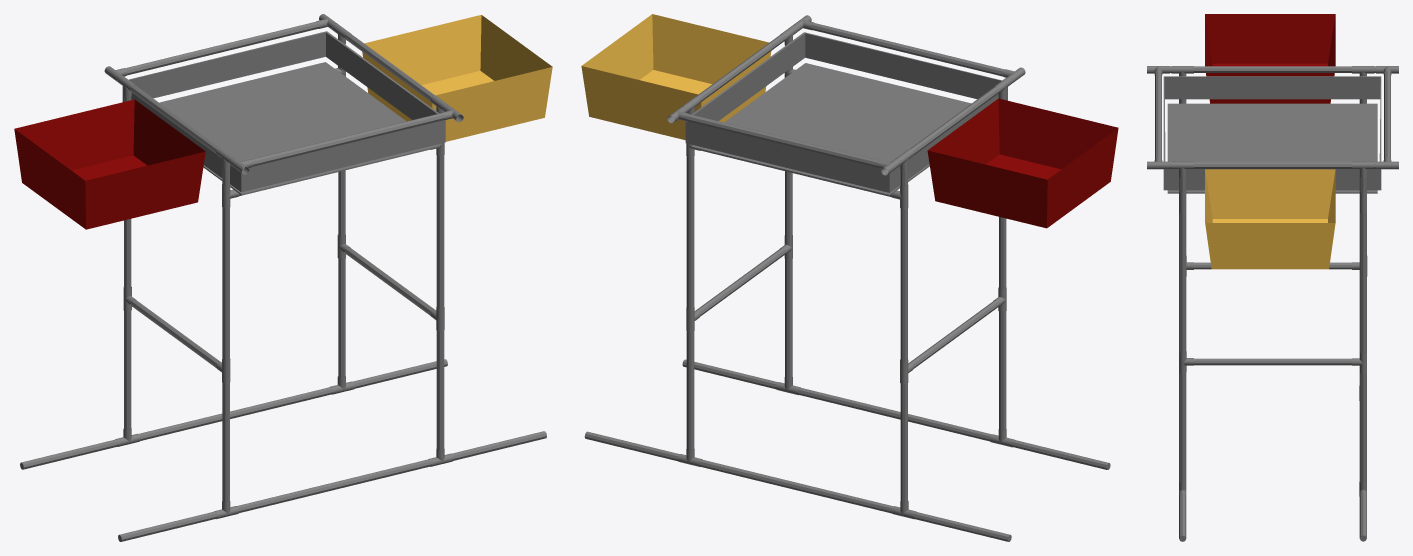
Rendered from collectionTable_2025.dae.
The picture shows the model from 3 angles, left to right: view 1: azimuth 30°, elevation 25°; view 2: azimuth 150°, elevation 25°; view 3: azimuth 270°, elevation 25°; orthographic projection. The views are drawn at different scales.
Parts seen in each view (by area): view 1: Cube.005, Cube.003, Cube.002; view 2: Cube.005, Cube.003, Cube.002; view 3: Cube.005, Cube.002, Cube.003.
Part boxes in pixels (left/top/right/bottom): Cube.005: left=20, top=14, right=546, bottom=541; Cube.003: left=14, top=99, right=205, bottom=229; Cube.002: left=362, top=15, right=552, bottom=141; Cube.005: left=584, top=15, right=1110, bottom=541; Cube.003: left=927, top=98, right=1118, bottom=228; Cube.002: left=581, top=14, right=771, bottom=140; Cube.005: left=1147, top=66, right=1398, bottom=541; Cube.002: left=1205, top=169, right=1335, bottom=269; Cube.003: left=1205, top=14, right=1335, bottom=103.
Size of the model in its own units: 1.3 by 0.6621 by 0.9667.
